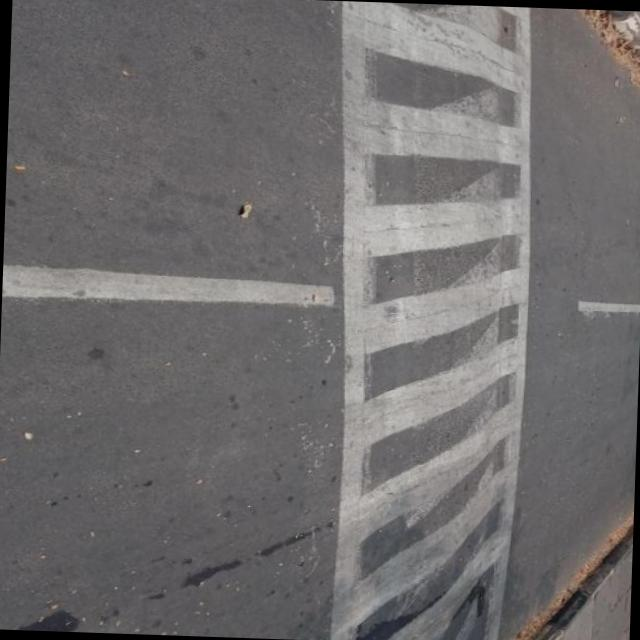zebra: (319, 0, 540, 640)
